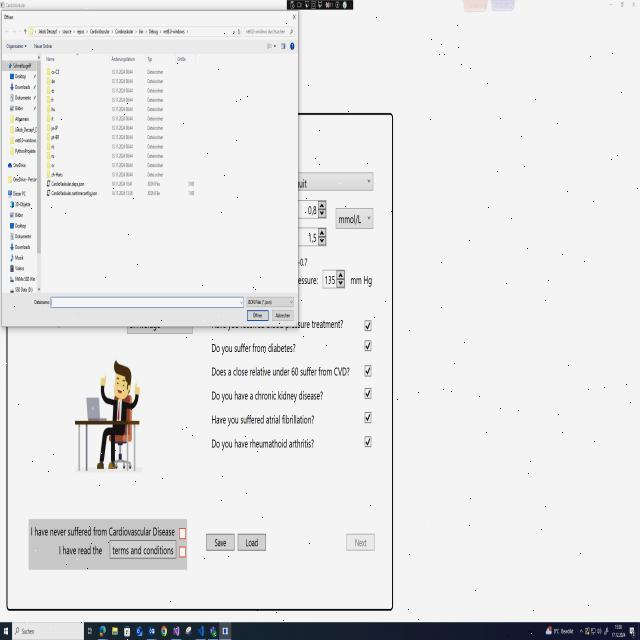button: (108, 540, 177, 564), (344, 528, 378, 554), (204, 529, 236, 556), (236, 529, 268, 556), (245, 308, 270, 322), (271, 309, 296, 322), (616, 0, 628, 13), (628, 0, 640, 13), (605, 0, 616, 13), (4, 27, 12, 38), (12, 26, 18, 40), (280, 42, 288, 52), (288, 42, 296, 52), (290, 11, 298, 21), (237, 26, 243, 38), (23, 26, 28, 38)
checkbox: (363, 316, 373, 333), (364, 434, 373, 452), (363, 385, 373, 401), (178, 525, 187, 542), (364, 338, 373, 354), (178, 546, 188, 560), (363, 363, 372, 378), (364, 410, 373, 425)
dropdownMenu: (51, 295, 244, 308), (29, 27, 237, 38), (296, 169, 376, 193), (334, 204, 376, 232), (246, 295, 296, 308), (2, 41, 31, 52), (266, 42, 277, 52), (18, 24, 24, 41)
input: (12, 623, 84, 640), (244, 25, 296, 38)
label: (30, 518, 176, 537), (210, 385, 334, 405), (208, 433, 318, 455), (209, 335, 300, 360), (209, 366, 355, 381), (209, 409, 322, 428), (54, 541, 106, 564), (300, 313, 352, 333), (348, 272, 376, 289), (33, 40, 56, 50), (31, 296, 50, 308), (3, 12, 15, 22)
upDown: (296, 196, 329, 220), (296, 225, 328, 248), (322, 266, 346, 292)
